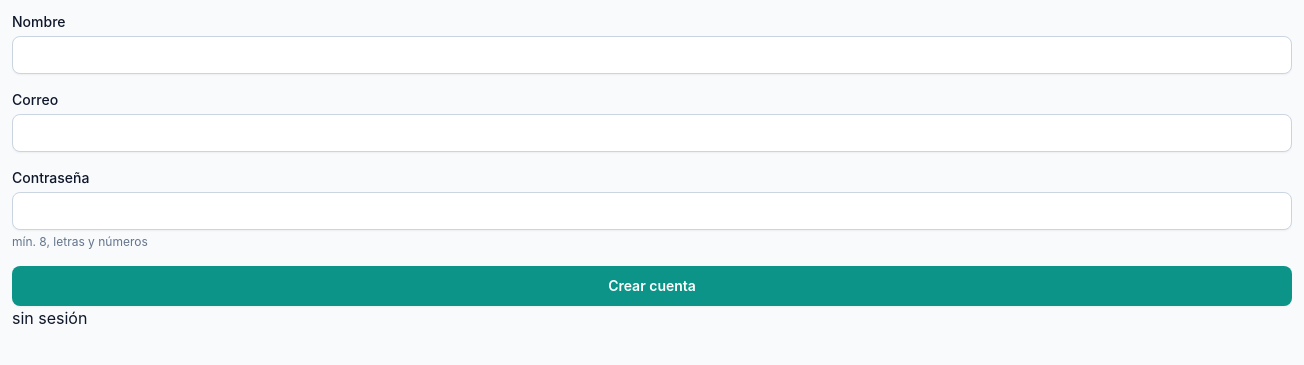
Scenario: RegistroForm · errores por campo › correo con formato inválido
In the field labelled "Nombre": (652, 55) [12,36,1292,74], type "Laura Pérez"
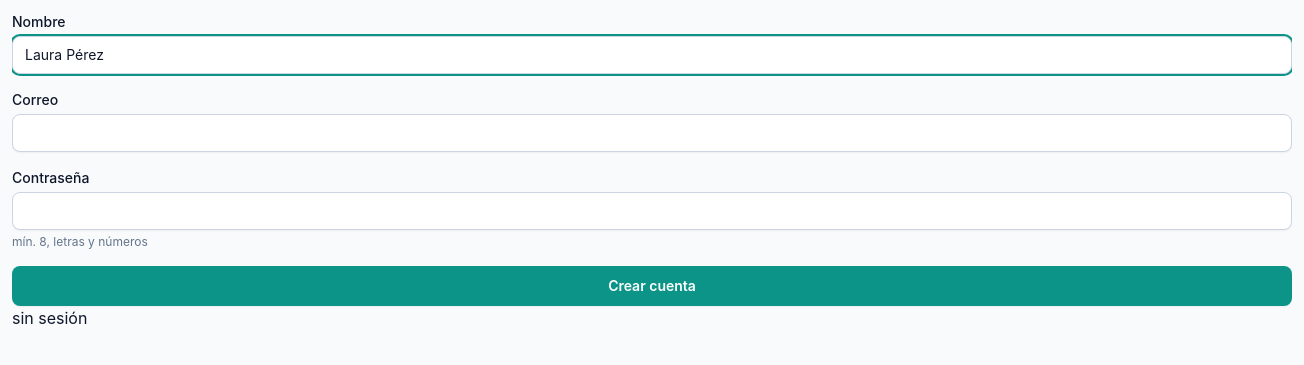
In the field labelled "Correo": (652, 133) [12,114,1292,152], type "sin-arroba"
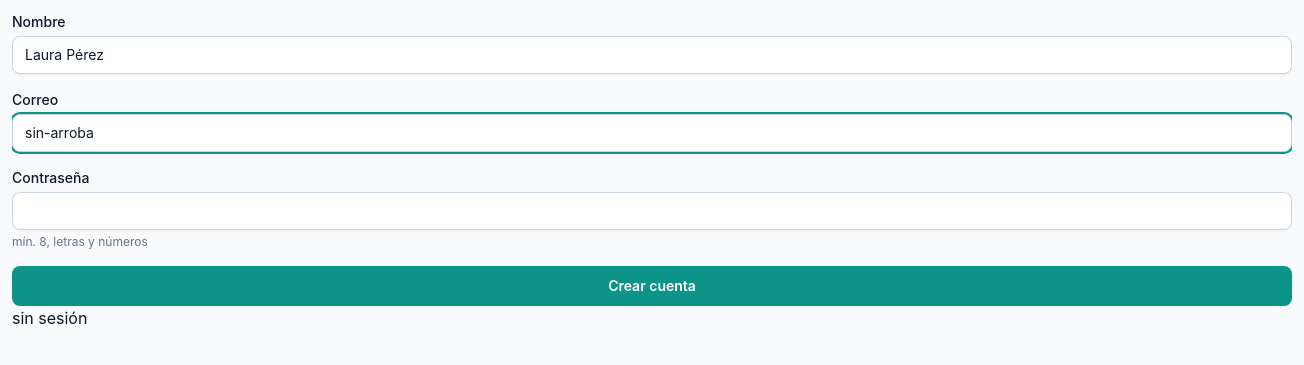
In the password field labelled "Contraseña": (652, 211) [12,192,1292,230], type "Clave1234"
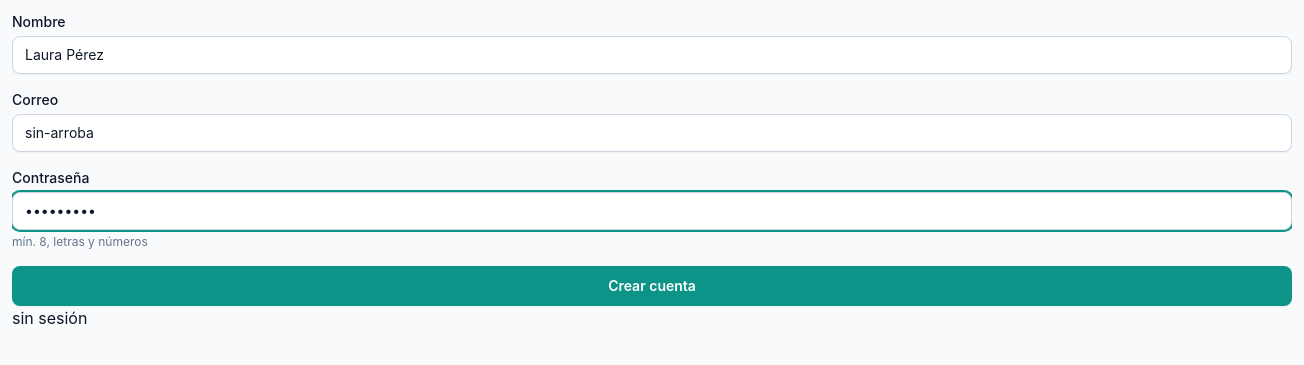
Click the button "Crear cuenta": click(652, 286) [12,266,1292,306]
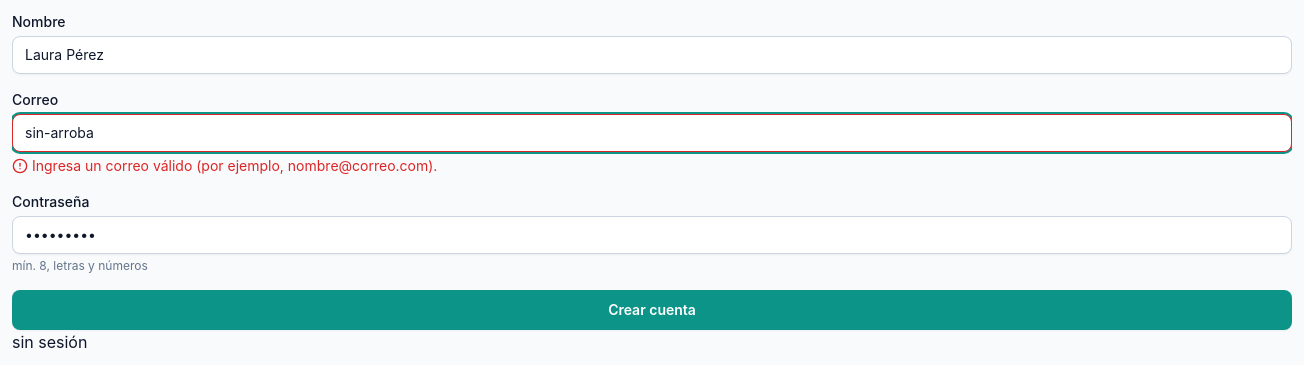
Result: the text "Ingresa un correo válido (por ejemplo, nombre@correo.com)." is shown at [32,156,437,176]
